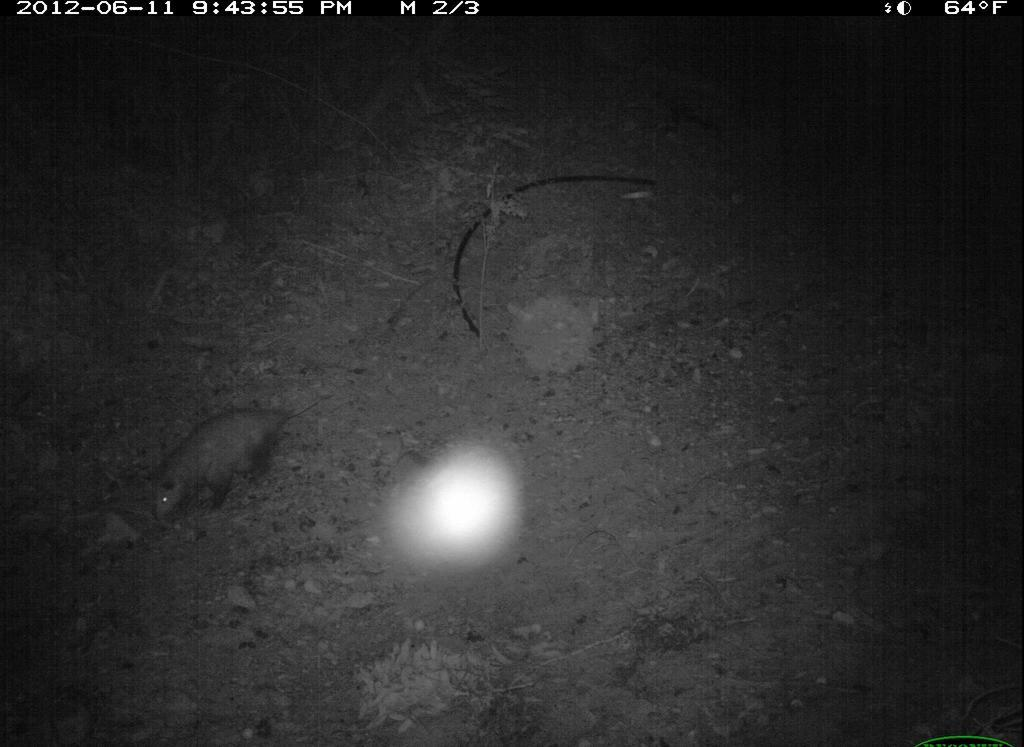opossum: (146, 392, 332, 529)
